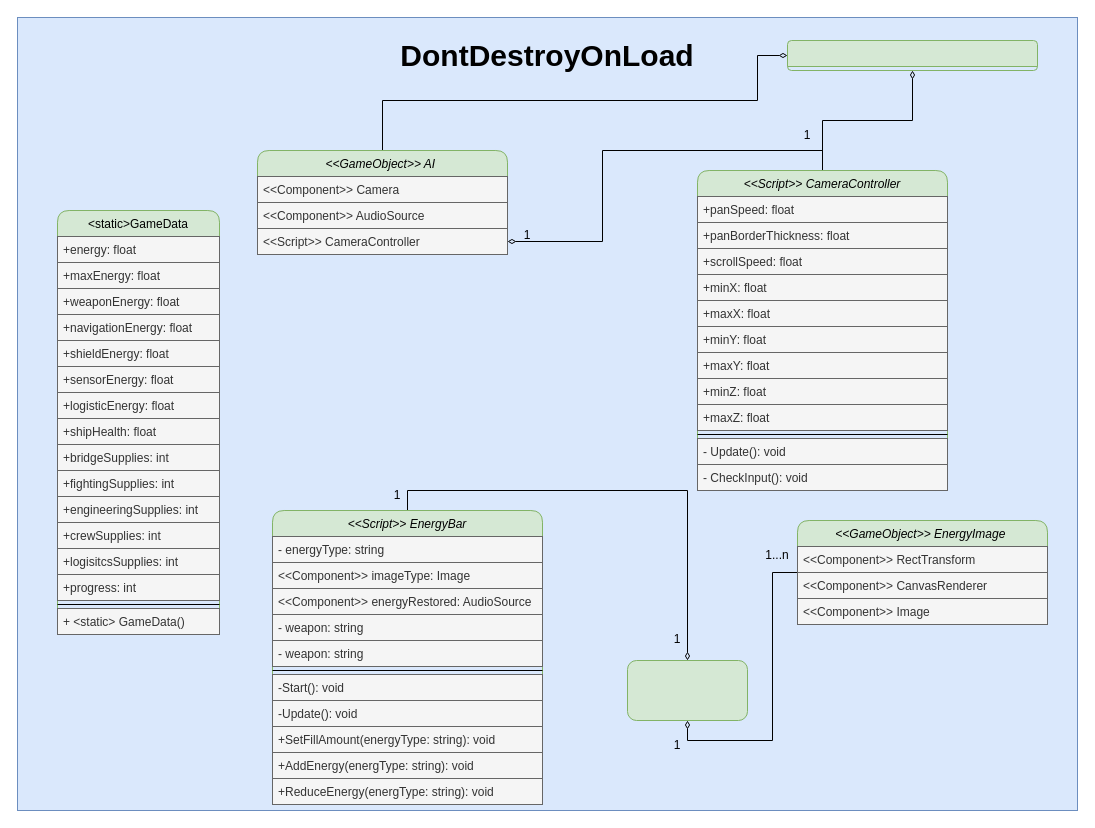
The diagram is 1095 pixels wide and 828 high, and some of its shapes have lost their labels. Each missing label, with the box of its shape:
Canvas: (626, 660, 748, 720)
MonoBehaviour: (786, 40, 1038, 70)
